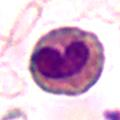monocyte: (26, 26, 108, 96)
